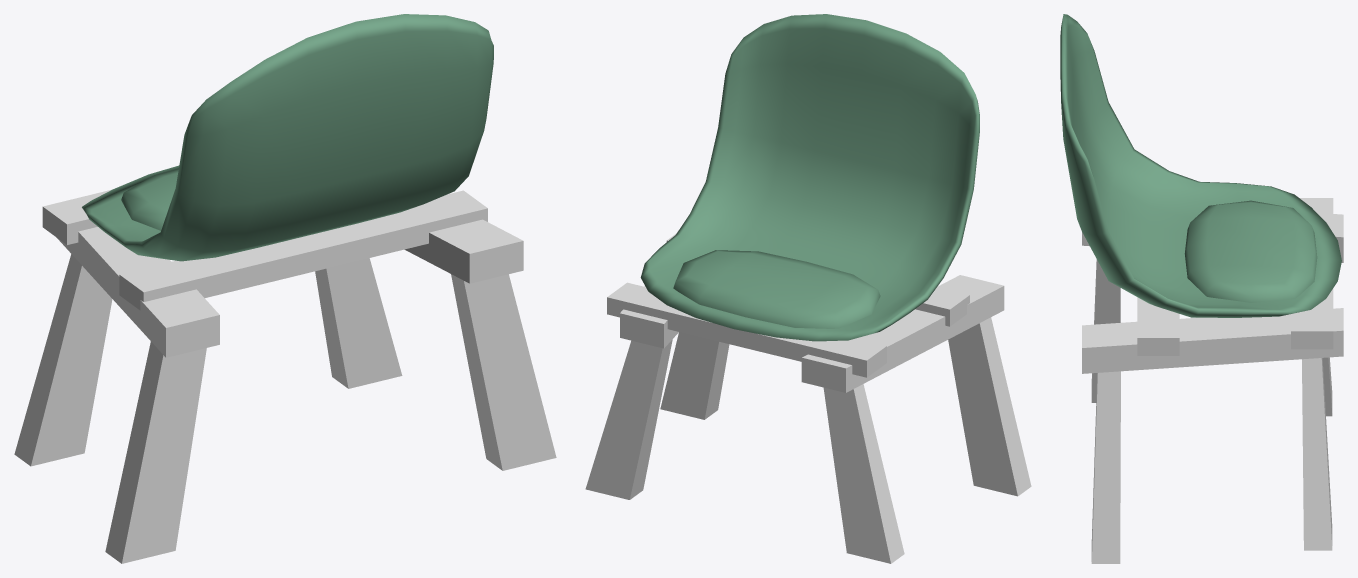
File: BabyStool.fbx
3 renders of one model, left to right at view 1: azimuth 30°, elevation 25°; view 2: azimuth 150°, elevation 25°; view 3: azimuth 270°, elevation 25°, orthographic. The views are drawn at different scales.
Visible parts, largest first — view 1: BabyStool, Stool_Feet.Back, Stool_Feet.Front, Stool_Brace, Stool_Btace02, Stool_Cusion; view 2: BabyStool, Stool_Feet.Front, Stool_Feet.Back, Stool_Cusion, Stool_Btace02, Stool_Brace; view 3: BabyStool, Stool_Cusion, Stool_Btace02, Stool_Feet.Back, Stool_Feet.Front, Stool_Brace.
Part boxes in pixels (x1=…): BabyStool: x1=82, y1=14, x2=493, y2=261; Stool_Feet.Back: x1=105, y1=274, x2=556, y2=563; Stool_Feet.Front: x1=14, y1=254, x2=402, y2=466; Stool_Brace: x1=42, y1=189, x2=487, y2=310; Stool_Btace02: x1=56, y1=219, x2=523, y2=357; Stool_Cusion: x1=121, y1=168, x2=178, y2=230; BabyStool: x1=640, y1=14, x2=979, y2=341; Stool_Feet.Front: x1=585, y1=339, x2=904, y2=563; Stool_Feet.Back: x1=660, y1=317, x2=1031, y2=496; Stool_Cusion: x1=673, y1=250, x2=880, y2=328; Stool_Btace02: x1=620, y1=275, x2=1004, y2=392; Stool_Brace: x1=607, y1=233, x2=969, y2=377; BabyStool: x1=1060, y1=14, x2=1341, y2=317; Stool_Cusion: x1=1184, y1=200, x2=1317, y2=302; Stool_Btace02: x1=1082, y1=214, x2=1343, y2=373; Stool_Feet.Back: x1=1091, y1=259, x2=1120, y2=563; Stool_Feet.Front: x1=1302, y1=357, x2=1332, y2=550; Stool_Brace: x1=1137, y1=198, x2=1333, y2=355.
Size of the model in its own units: 76.39 by 84.2 by 49.8.
